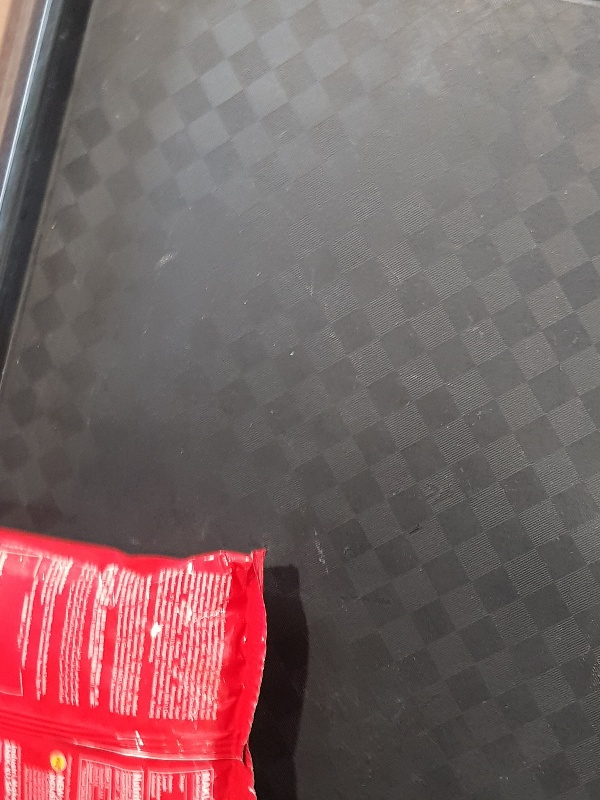ShoyueMi Spicy Flavoured Snacks: (1, 522, 271, 800)
